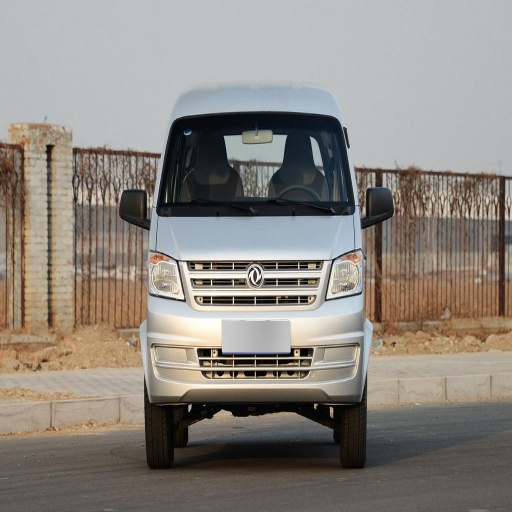front_bumper: (147, 259, 365, 400)
front_right_light: (146, 251, 184, 300)
hood: (156, 216, 356, 261)
left_mirror: (361, 186, 395, 227)
